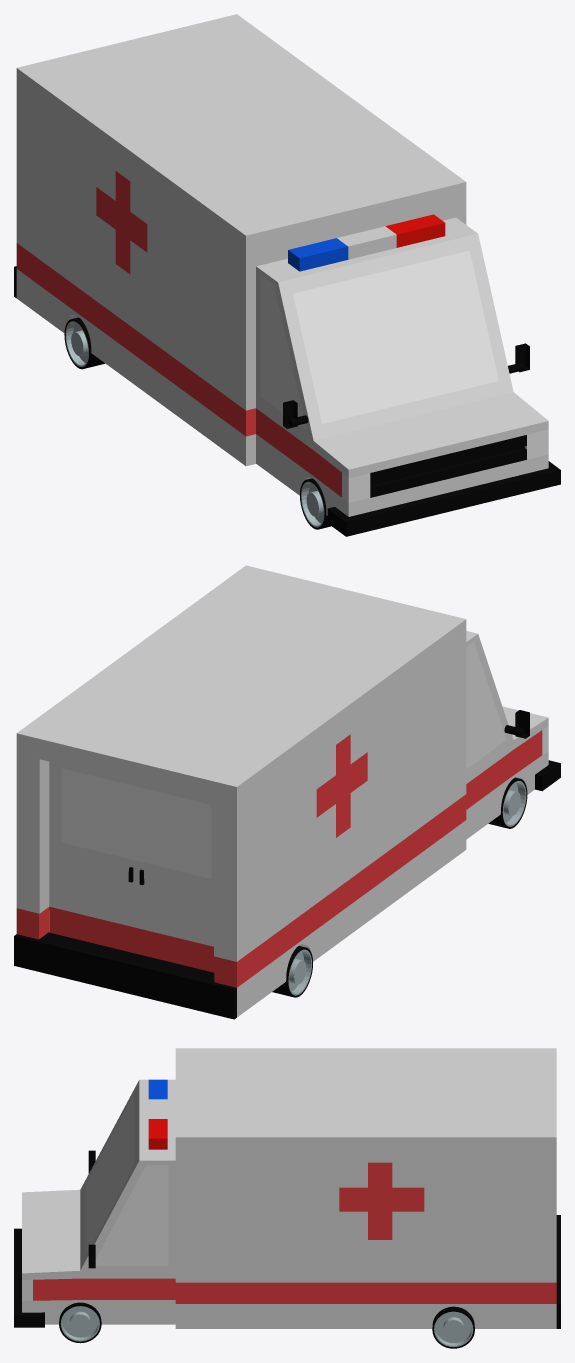
Rendered from ambulance.fbx.
3 renders of one model, top to bottom at view 1: azimuth 30°, elevation 25°; view 2: azimuth 150°, elevation 25°; view 3: azimuth 270°, elevation 25°, orthographic. The views are drawn at different scales.
Visible parts, largest first — view 1: Ambulance; view 2: Ambulance; view 3: Ambulance.
Part boxes in pixels (<box>): Ambulance: <box>14,14,560,536</box>; Ambulance: <box>14,565,560,1019</box>; Ambulance: <box>14,1048,560,1348</box>.
Bounding box in the file's own units: 66.16 × 66.08 × 155.
